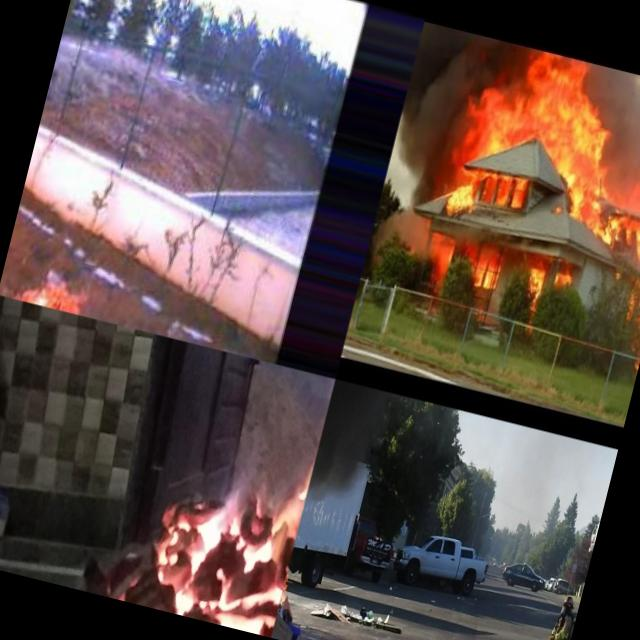fire: (114, 362, 328, 638), (461, 42, 587, 225), (551, 93, 620, 223), (10, 252, 94, 314), (609, 230, 640, 382), (587, 190, 640, 253), (518, 260, 576, 314), (460, 247, 504, 299), (276, 552, 302, 616)
smoke: (391, 22, 502, 175), (303, 421, 390, 524), (390, 159, 456, 217), (599, 102, 640, 193), (618, 78, 640, 204), (580, 62, 640, 107)
